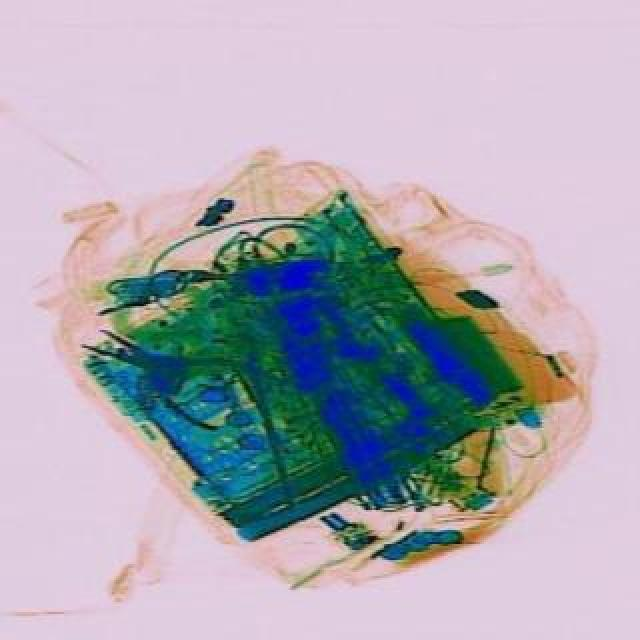wrench: (66, 296, 284, 446)
